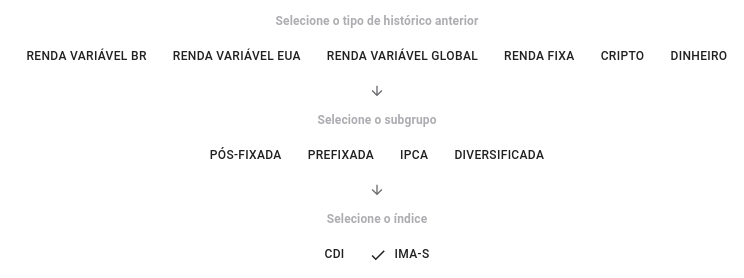
Test case: requires a choice for multiple subgroups and selects a sole index automatically
Click the button "Renda variável BR".
click(87, 56)  # box [16,42,157,71]
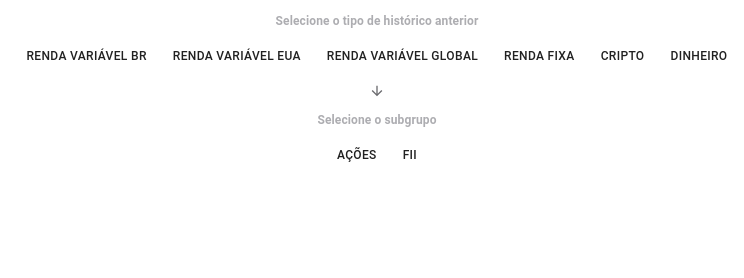
Check: the button "Ações" is shown, box [327,141,387,170]
Check: the button "FII" is shown
Click the button "FII".
click(410, 156)  # box [393,141,427,170]
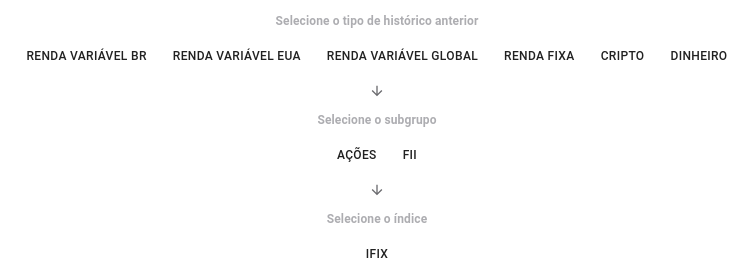
Click the button "Cripto".
click(623, 56)  # box [591,42,654,71]
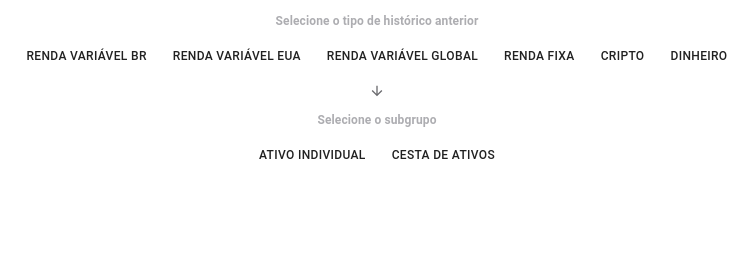
Check: the button "IFIX" is gone
